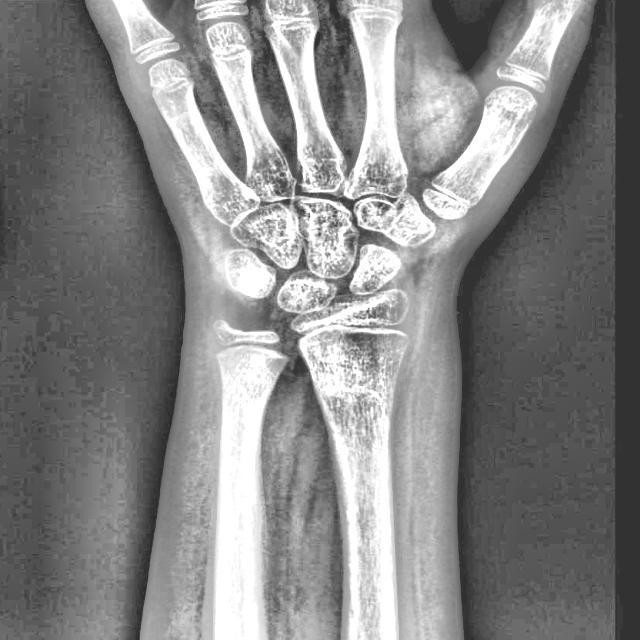fracture: (317, 361, 363, 370)
